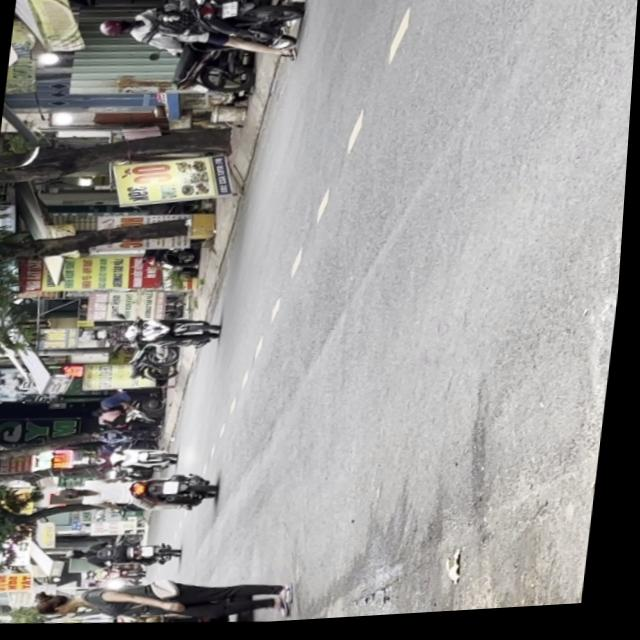helmet: (98, 16, 136, 38), (83, 327, 112, 342)
licenseplate: (93, 0, 306, 68), (83, 309, 230, 358)
nohelmet: (221, 2, 239, 20)
